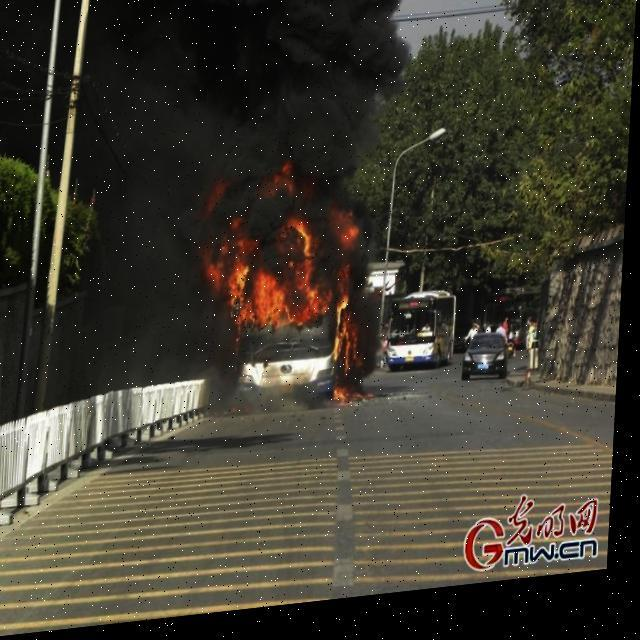Fire: (202, 162, 382, 429)
